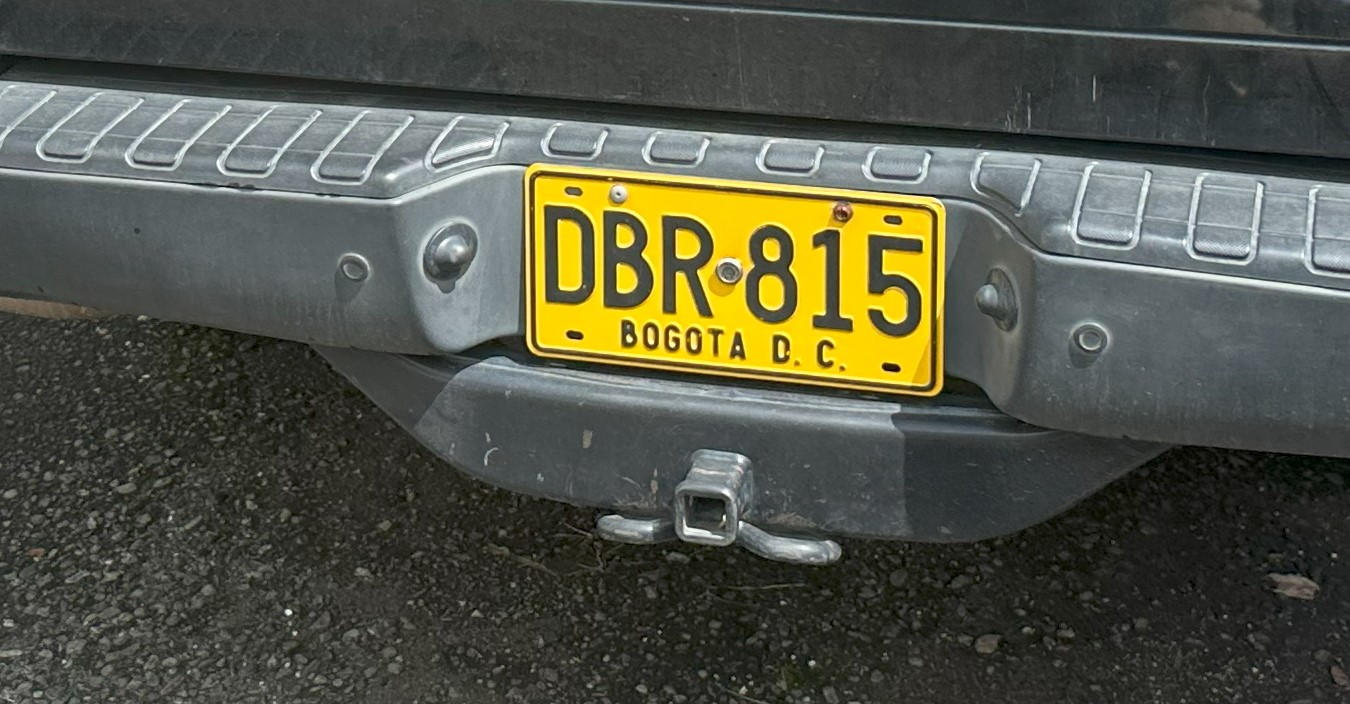number plate: (525, 165, 943, 394)
